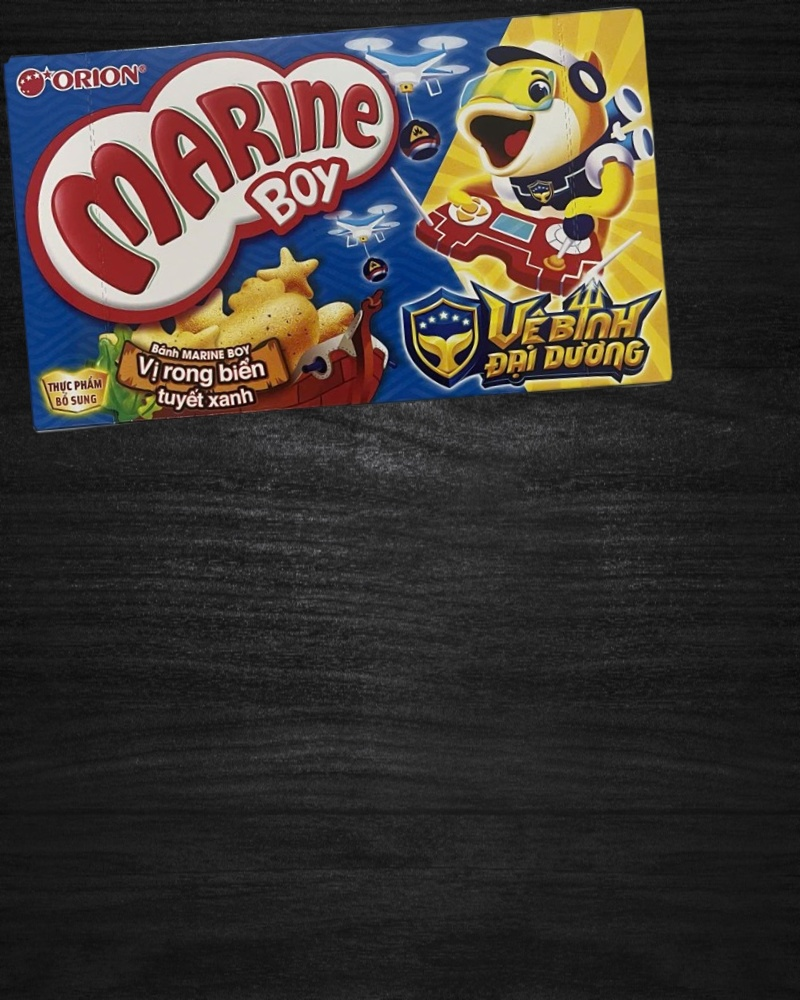Marine: (3, 2, 677, 439)
